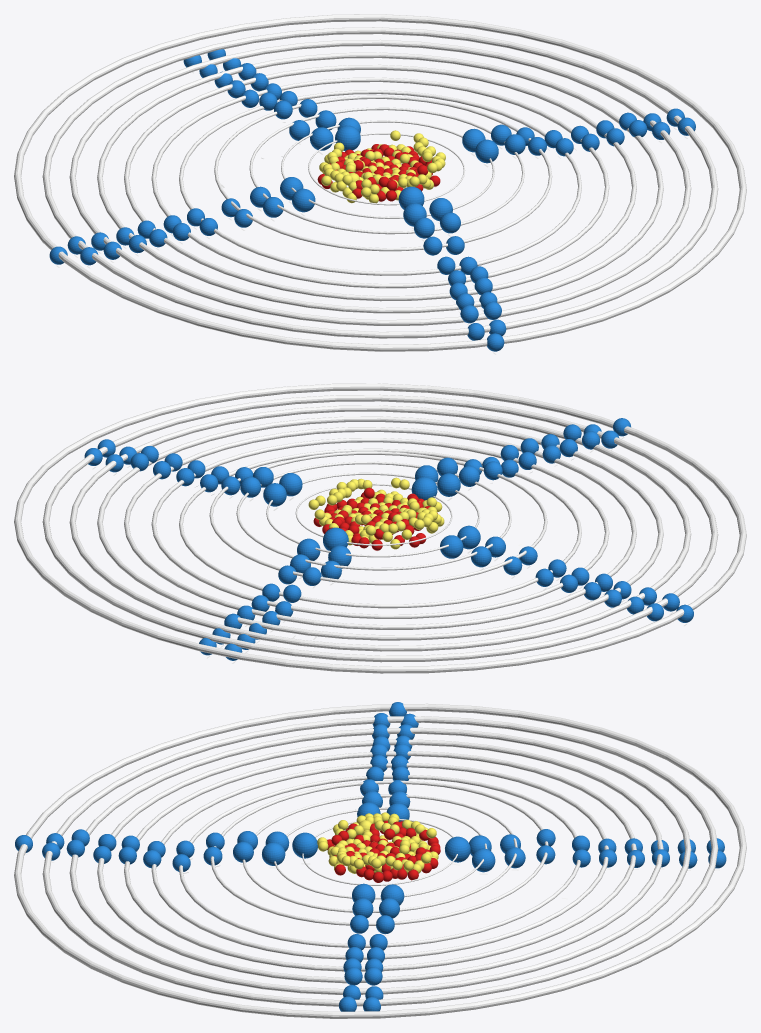
3 renders of one model, top to bottom at view 1: azimuth 30°, elevation 25°; view 2: azimuth 150°, elevation 25°; view 3: azimuth 270°, elevation 25°, orthographic.
Parts seen in each view (by area): view 1: Torus.011, Torus.010, Torus.009, Torus.008, Torus.007, Torus.006, Torus.005, Torus.004, Torus.003, Torus.002, Torus.001; view 2: Torus.011, Torus.010, Torus.009, Torus.008, Torus.007, Torus.006, Torus.005, Torus.004, Torus.003, Torus.002, Torus.001; view 3: Torus.011, Torus.010, Torus.009, Torus.008, Torus.007, Torus.006, Torus.005, Torus.004, Torus.003, Torus.002, g.001, g (+1 smaller).
Part boxes in pixels (<box>): Torus.011: <box>14,14,746,351</box>; Torus.010: <box>42,27,718,338</box>; Torus.009: <box>69,39,691,325</box>; Torus.008: <box>97,52,663,313</box>; Torus.007: <box>124,64,636,301</box>; Torus.006: <box>151,77,609,288</box>; Torus.005: <box>179,90,581,275</box>; Torus.004: <box>214,95,552,251</box>; Torus.003: <box>249,107,524,234</box>; Torus.002: <box>281,120,494,218</box>; Torus.001: <box>308,133,465,205</box>; Torus.011: <box>14,383,746,673</box>; Torus.010: <box>42,394,718,662</box>; Torus.009: <box>69,405,691,651</box>; Torus.008: <box>97,416,663,640</box>; Torus.007: <box>124,427,636,629</box>; Torus.006: <box>151,438,609,618</box>; Torus.005: <box>179,448,581,608</box>; Torus.004: <box>209,451,547,585</box>; Torus.003: <box>236,461,511,570</box>; Torus.002: <box>266,472,479,557</box>; Torus.001: <box>295,483,452,545</box>; Torus.011: <box>14,703,746,1018</box>; Torus.010: <box>42,716,718,1006</box>; Torus.009: <box>69,727,691,994</box>; Torus.008: <box>97,739,663,983</box>; Torus.007: <box>124,751,636,971</box>; Torus.006: <box>151,763,608,959</box>; Torus.005: <box>179,775,580,947</box>; Torus.004: <box>210,780,548,925</box>; Torus.003: <box>242,794,517,912</box>; Torus.002: <box>274,807,487,899</box>; g.001: <box>292,832,317,858</box>; g: <box>445,836,470,862</box>.
Size of the model in its own units: 28.21 by 2.85 by 28.03.
